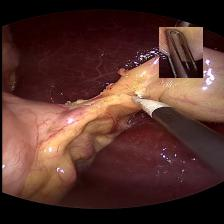Grasper: (158, 27, 202, 78)
Hook: (119, 90, 173, 118)
